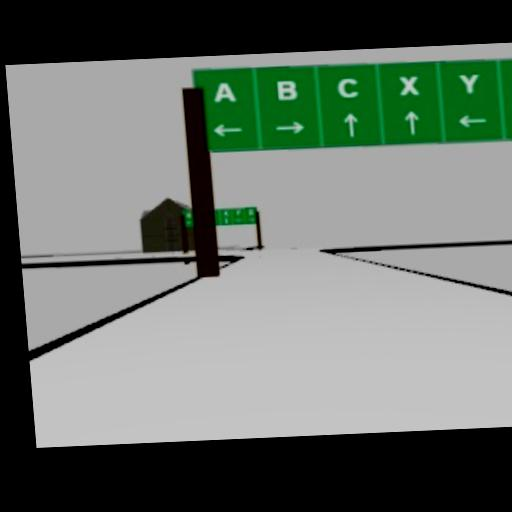A: (210, 79, 236, 102)
B: (275, 76, 297, 99)
C: (334, 73, 360, 96)
Left: (211, 122, 244, 137), (454, 112, 486, 127)
Right: (273, 119, 305, 134)
Straight: (341, 109, 362, 139), (402, 109, 422, 136)
X: (397, 73, 419, 94)
Y: (457, 72, 480, 93)
